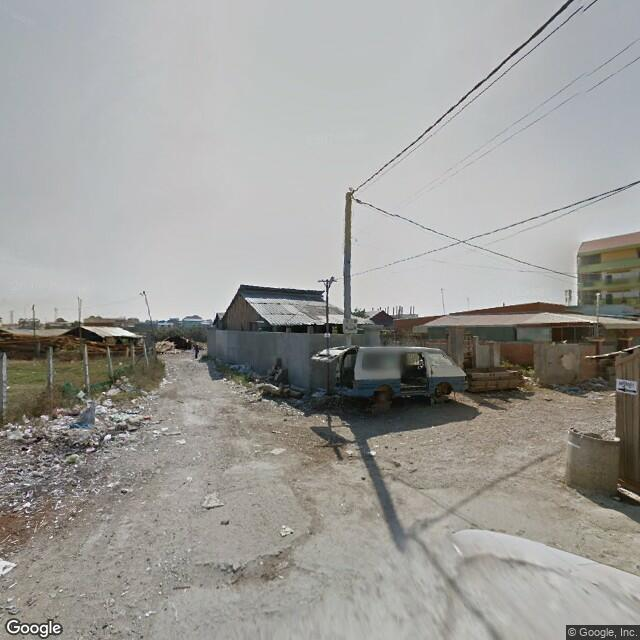litter: (68, 411, 100, 433), (7, 419, 35, 440), (2, 554, 16, 579), (203, 492, 221, 509), (151, 422, 170, 433), (279, 522, 294, 535), (271, 444, 285, 455), (172, 441, 187, 444), (122, 486, 133, 490)
